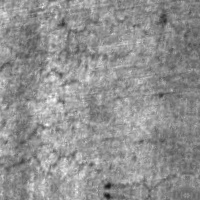crazing: (0, 86, 118, 179), (0, 24, 129, 89)
